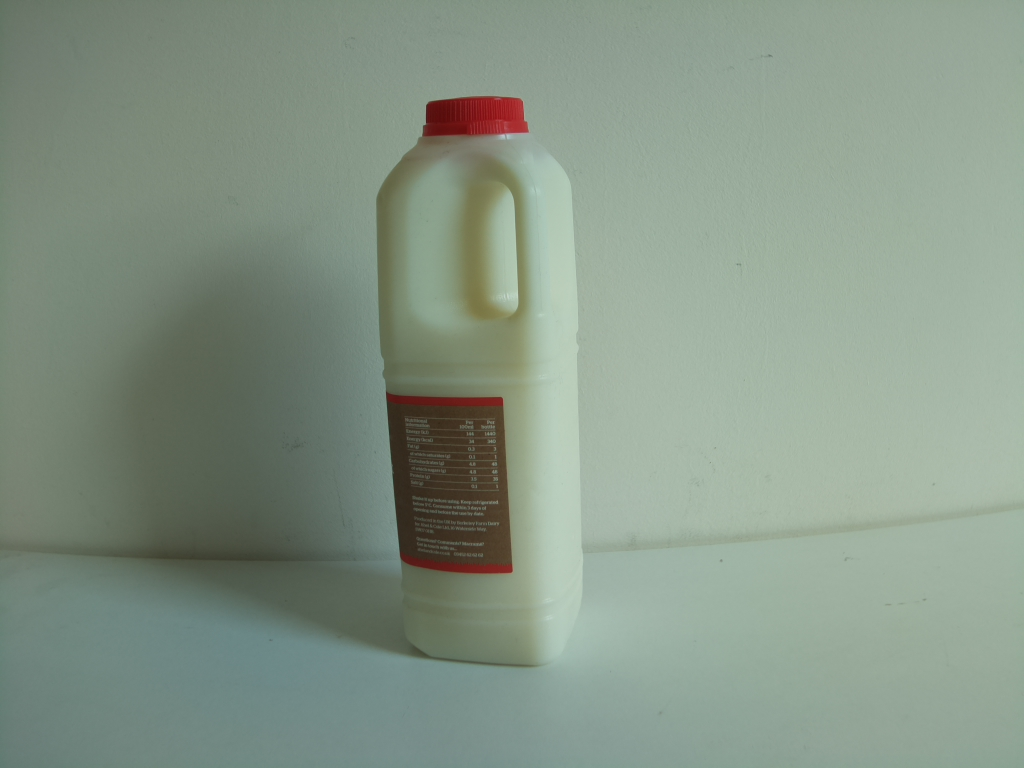milk: (377, 91, 589, 670)
